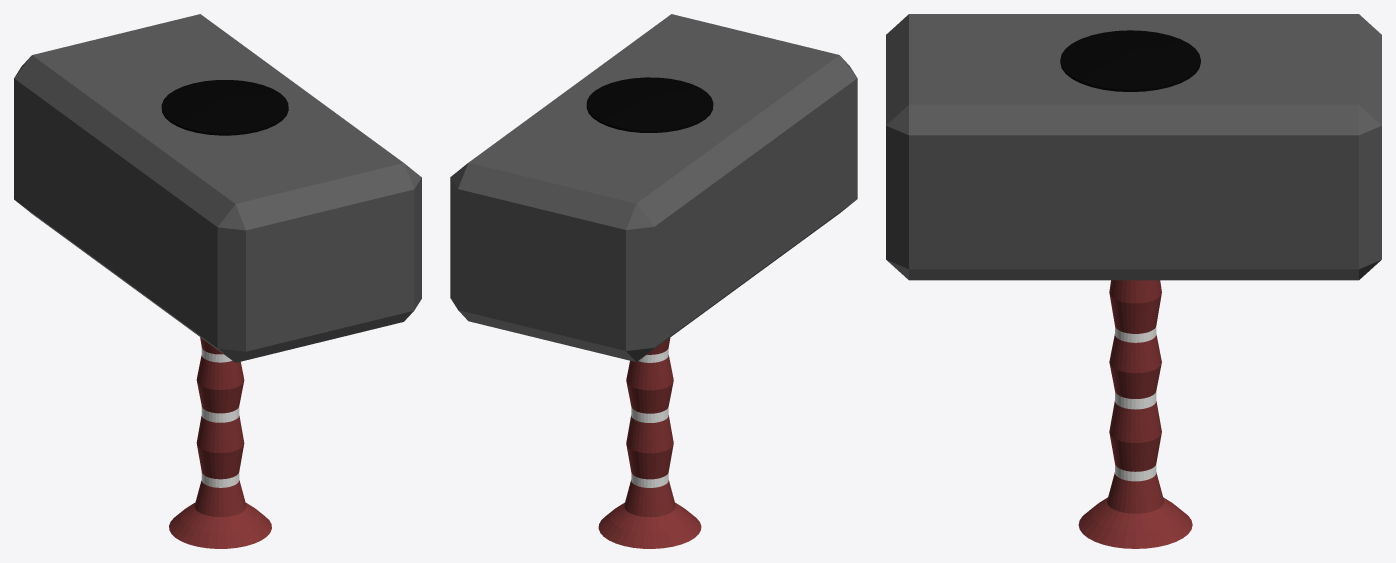
File: mjolnir.fbx
3 views of the same model, side by side, from view 1: azimuth 30°, elevation 25°; view 2: azimuth 150°, elevation 25°; view 3: azimuth 270°, elevation 25° (orthographic). The views are drawn at different scales.
Parts seen in each view (by area): view 1: Cube; view 2: Cube; view 3: Cube.
Part boxes in pixels (x1,y1,x2,y2): Cube: [14, 14, 421, 548]; Cube: [450, 14, 857, 548]; Cube: [886, 14, 1381, 548].
Size of the model in its own units: 113 by 229 by 214.
